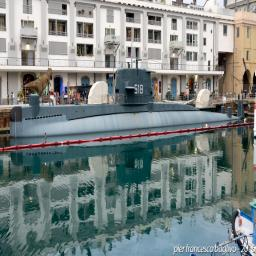submarine: (11, 62, 252, 147)
